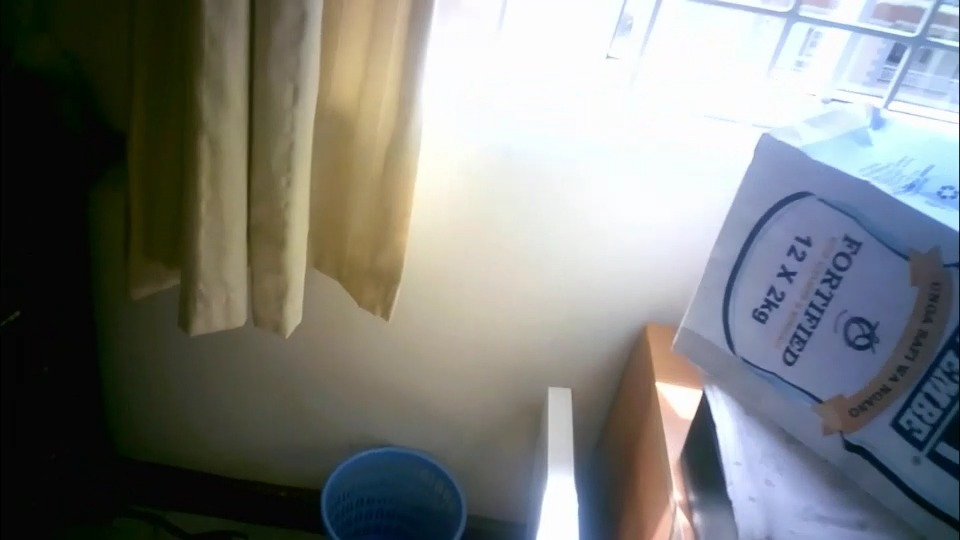wheat_flour_blue_label: (670, 102, 959, 539)
